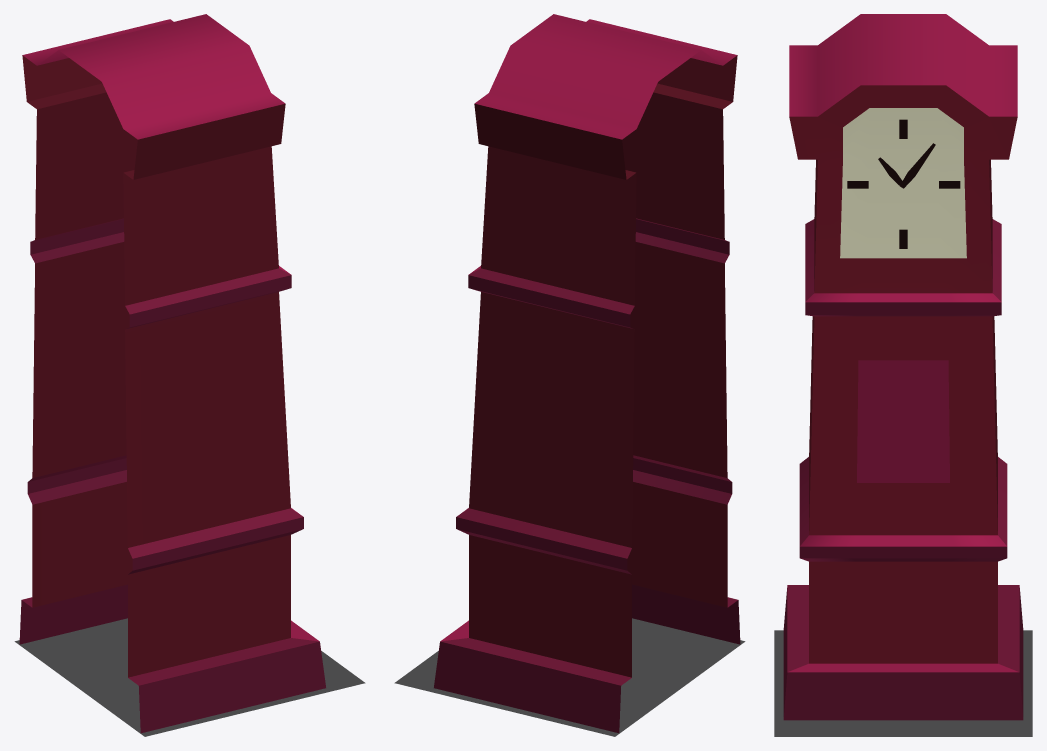
The model's file is horloge_01.fbx.
The picture shows the model from 3 angles, left to right: view 1: azimuth 30°, elevation 25°; view 2: azimuth 150°, elevation 25°; view 3: azimuth 270°, elevation 25°; orthographic projection.
Visible parts, largest first — view 1: horloge_01; view 2: horloge_01; view 3: horloge_01.
Part boxes in pixels (x1=…): horloge_01: x1=14, y1=14, x2=365, y2=736; horloge_01: x1=394, y1=14, x2=745, y2=736; horloge_01: x1=774, y1=14, x2=1032, y2=736.
Size of the model in its own units: 54.42 by 147 by 55.77.
2 materials, 1 textured.
